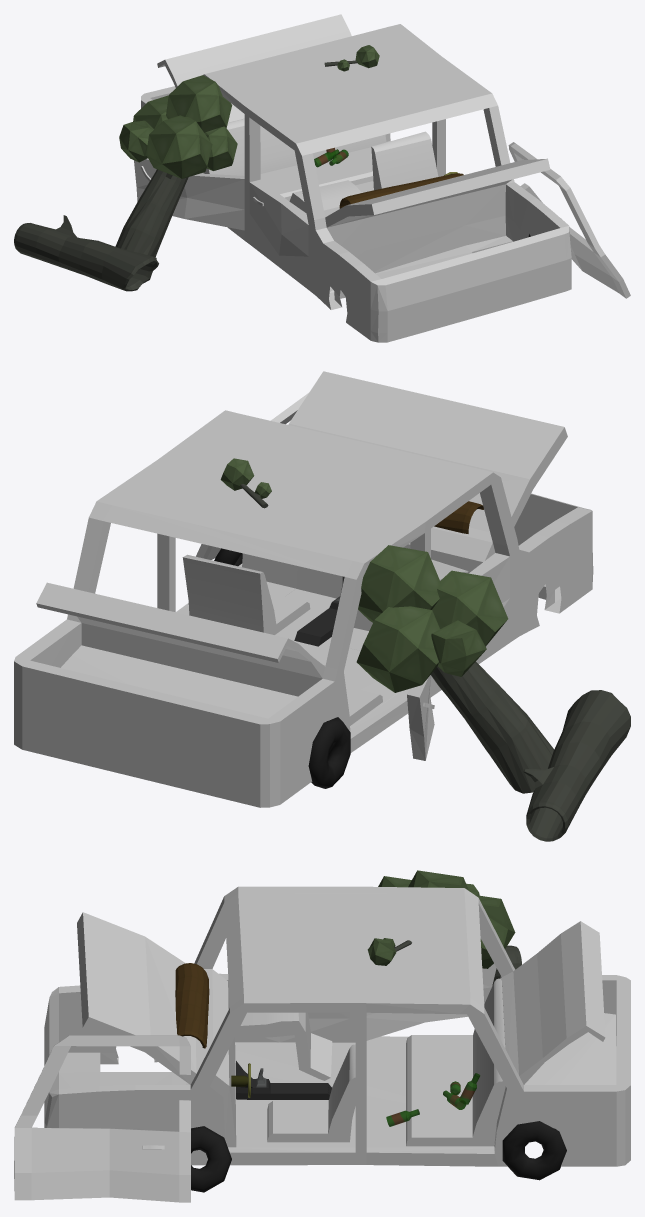
Rendered from Car Final.fbx.
3 renders of one model, top to bottom at view 1: azimuth 30°, elevation 25°; view 2: azimuth 150°, elevation 25°; view 3: azimuth 270°, elevation 25°, orthographic. The views are drawn at different scales.
Visible parts, largest first — view 1: Box001, Cylinder013, Box010, Cylinder003, GeoSphere009, Box019, Box013, GeoSphere004, GeoSphere011, GeoSphere010, Box014, Cylinder004 (+1 smaller); view 2: Box001, Cylinder013, Cylinder003, Box013, GeoSphere008, GeoSphere004, GeoSphere009, Torus007, GeoSphere011, Box011, Box014, Box010 (+2 smaller); view 3: Box001, Box019, Box010, Box013, Box014, Torus003, Cylinder004, Torus008, Box011, GeoSphere008, GeoSphere004, GeoSphere012.
Part boxes in pixels (bbox=[...]): Box001: bbox=[134, 14, 571, 342]; Cylinder013: bbox=[14, 215, 158, 291]; Box010: bbox=[203, 119, 386, 201]; Cylinder003: bbox=[115, 169, 188, 257]; GeoSphere009: bbox=[146, 115, 212, 178]; Box019: bbox=[508, 142, 630, 298]; Box013: bbox=[371, 131, 438, 190]; GeoSphere004: bbox=[166, 75, 232, 132]; GeoSphere011: bbox=[119, 120, 153, 162]; GeoSphere010: bbox=[204, 126, 237, 170]; Box014: bbox=[289, 180, 361, 212]; Cylinder004: bbox=[339, 173, 463, 208]; Box001: bbox=[14, 371, 593, 807]; Cylinder013: bbox=[523, 690, 630, 841]; Cylinder003: bbox=[431, 661, 554, 793]; Box013: bbox=[182, 554, 310, 634]; GeoSphere008: bbox=[356, 606, 439, 692]; GeoSphere004: bbox=[358, 545, 440, 622]; GeoSphere009: bbox=[432, 570, 508, 646]; Torus007: bbox=[308, 717, 350, 788]; GeoSphere011: bbox=[431, 620, 486, 676]; Box011: bbox=[294, 576, 344, 646]; Box014: bbox=[349, 559, 468, 650]; Box010: bbox=[323, 665, 382, 725]; Box001: bbox=[44, 886, 630, 1166]; Box019: bbox=[14, 1035, 190, 1202]; Box010: bbox=[406, 978, 505, 1146]; Box013: bbox=[267, 1044, 355, 1142]; Box014: bbox=[235, 1012, 332, 1080]; Torus003: bbox=[502, 1121, 566, 1180]; Cylinder004: bbox=[175, 963, 209, 1048]; Torus008: bbox=[191, 1126, 231, 1192]; Box011: bbox=[236, 1061, 331, 1099]; GeoSphere008: bbox=[475, 895, 515, 968]; GeoSphere004: bbox=[408, 870, 468, 890]; GeoSphere012: bbox=[367, 938, 396, 965].
Bounding box in the file's own units: 108 × 44.67 × 117.
